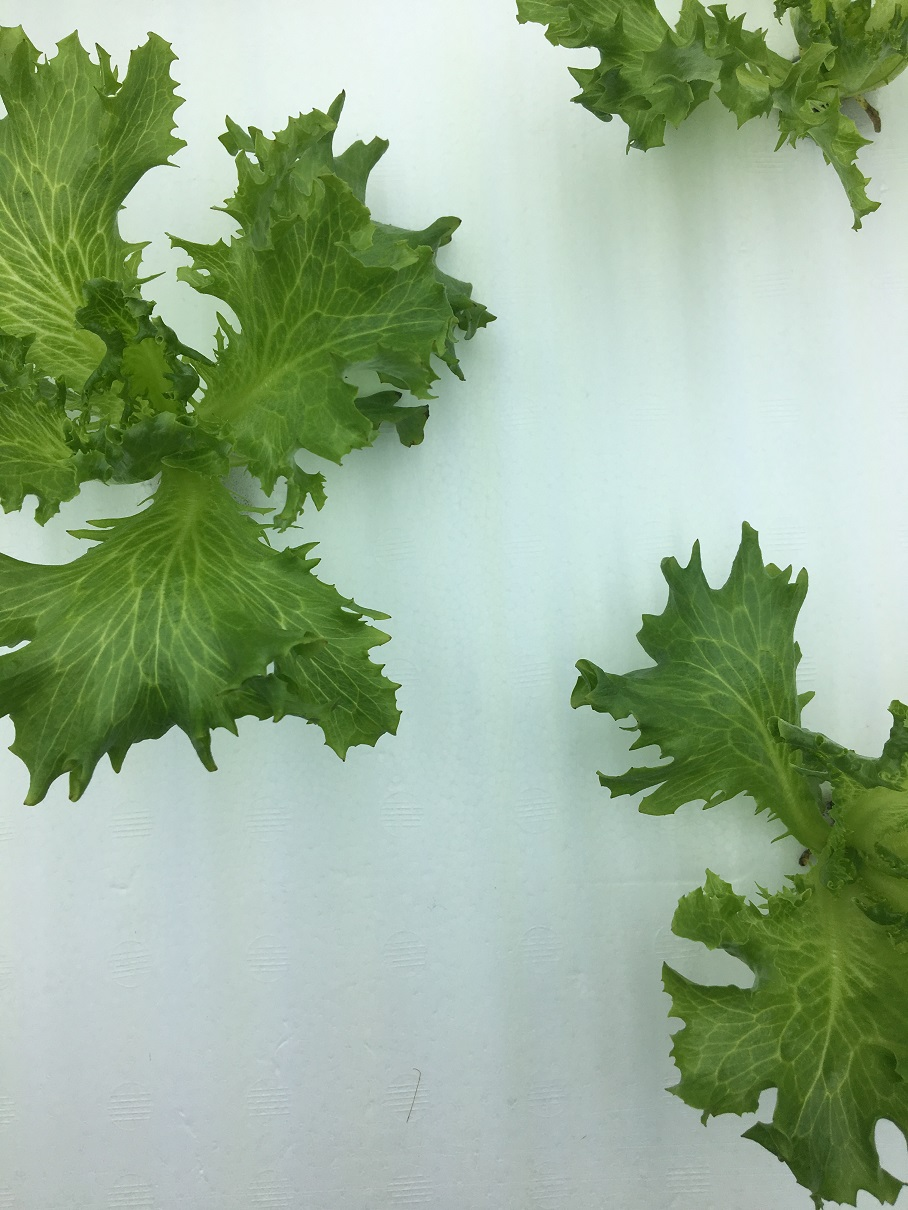tipburn: (693, 530, 724, 563), (379, 625, 420, 648), (331, 749, 355, 775), (334, 79, 358, 102), (389, 677, 417, 693), (422, 408, 439, 424), (393, 389, 408, 404), (456, 214, 471, 229), (409, 438, 421, 452)
